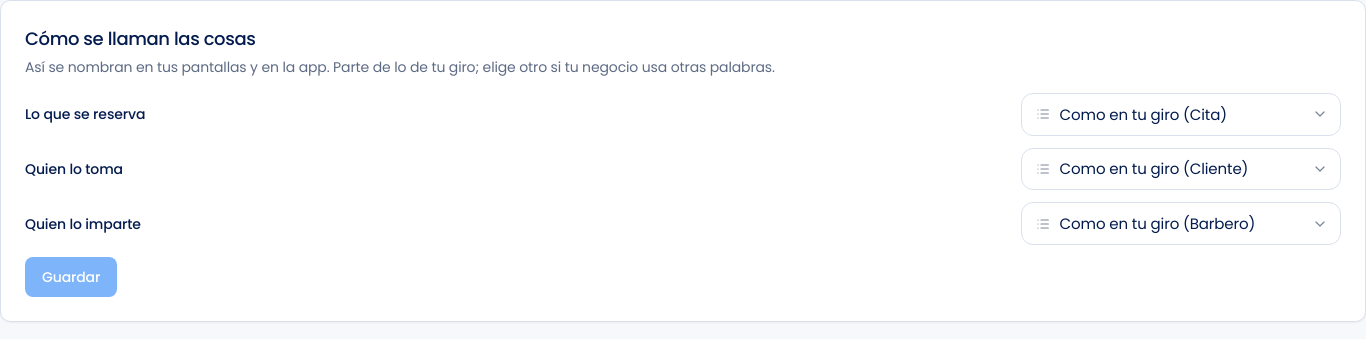
it: cómo se llaman las cosas › parte de lo del giro y guarda solo lo que se eligió
This screenshot has width=1366, height=339.
Select "Estilista" in the dropdown with id "term-instructor". click: point(1181, 224)
box: [1021,202,1341,245]
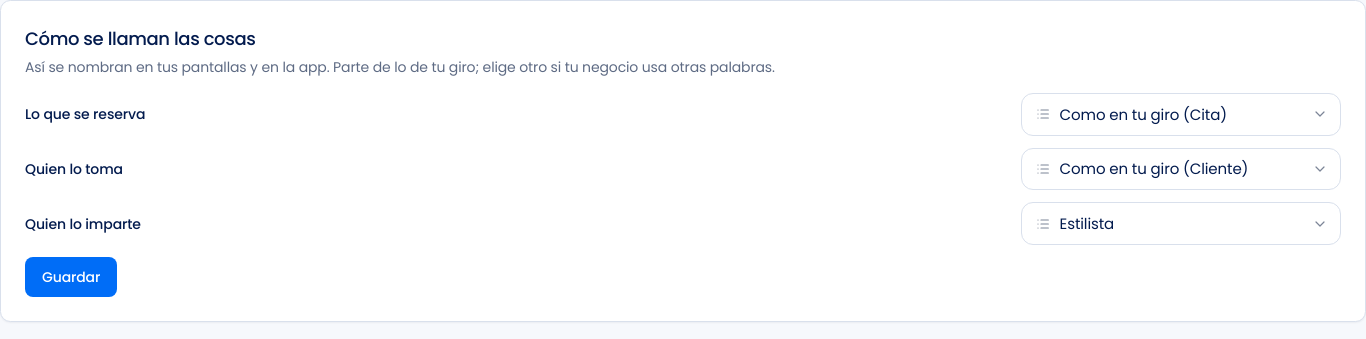
Submit the form, box [25,93,1341,297]
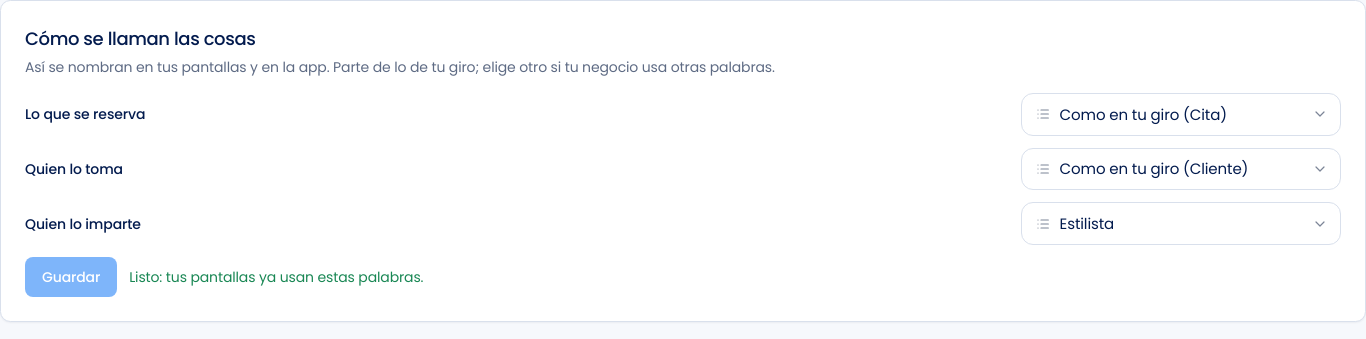
Expected: the text "tus pantallas ya usan estas palabras" is shown, [129,267,423,287]
